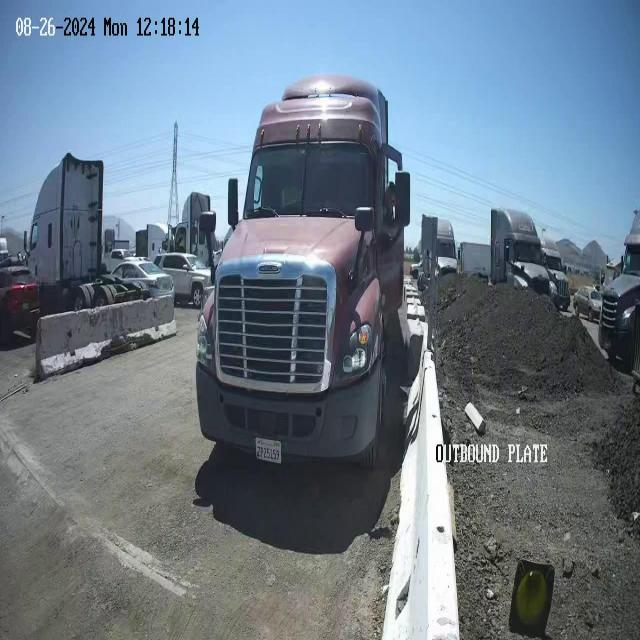TRUCK_OUT: (194, 74, 413, 473)
